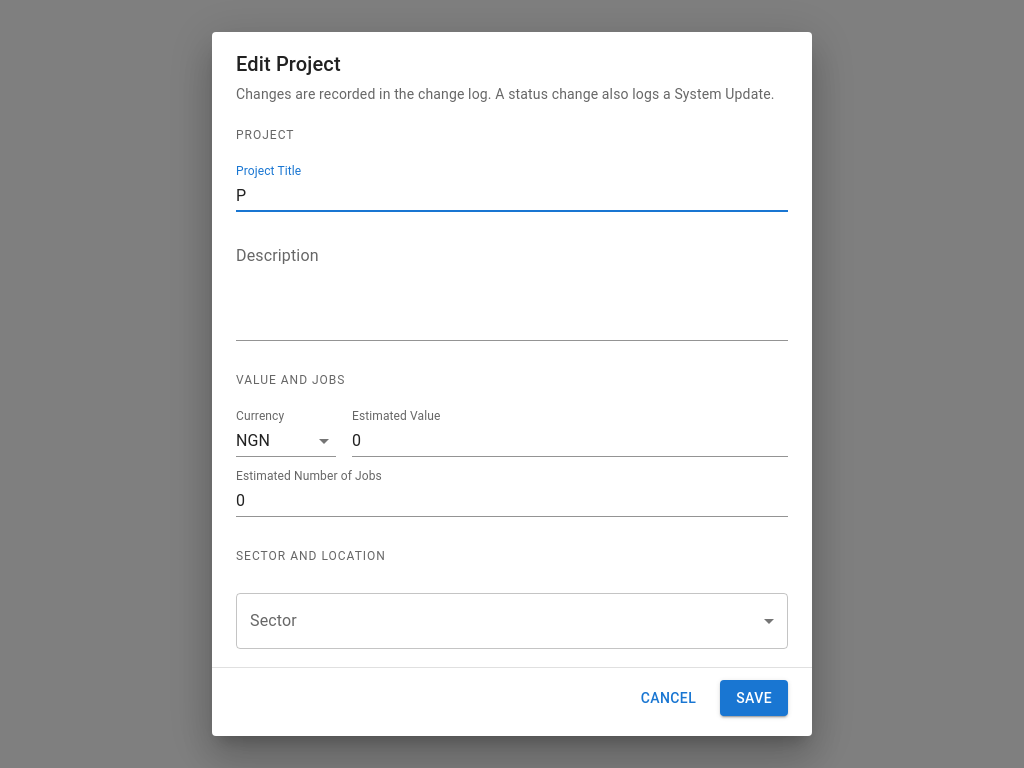
Test case: ProjectForm › shows the assignment message when a save returns 403
The width and height of the screenshot is (1024, 768).
Click the button "Save": (754, 698) x1=720 y1=680 x2=788 y2=716
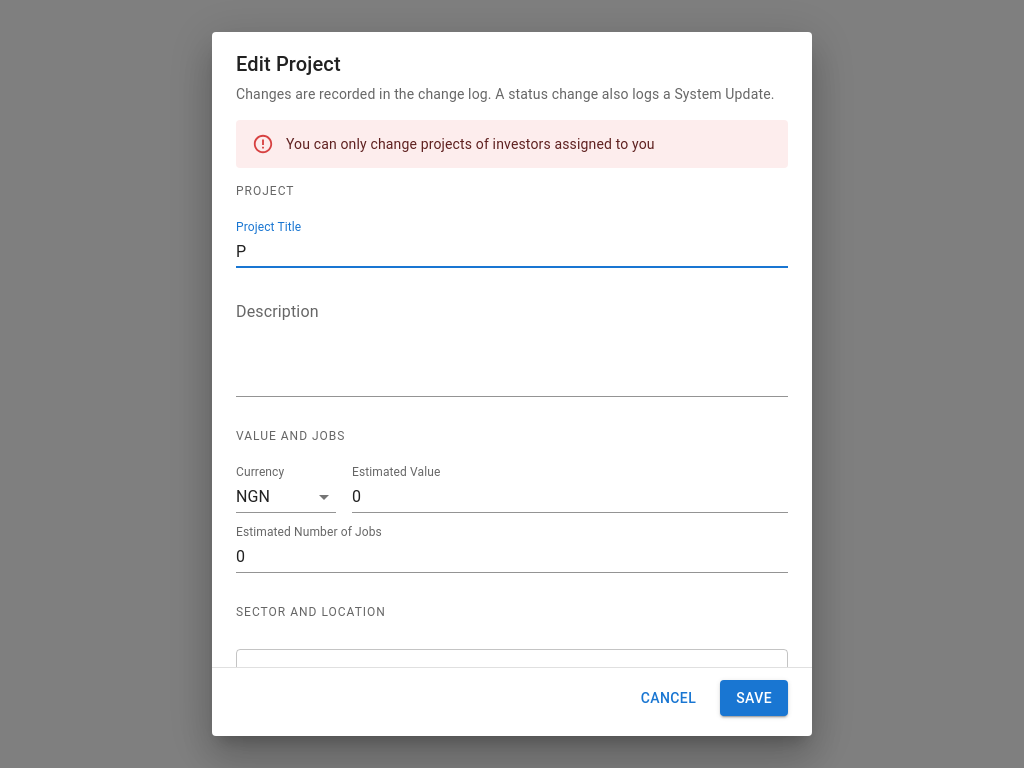
Now the message reads "You can only change projects of investors assigned to you", box x1=286 y1=136 x2=655 y2=152
